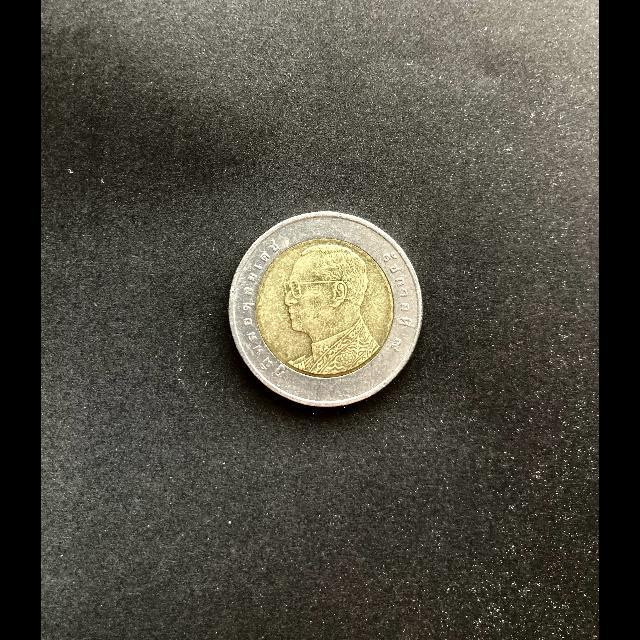10 Bath: (227, 211, 425, 409)
